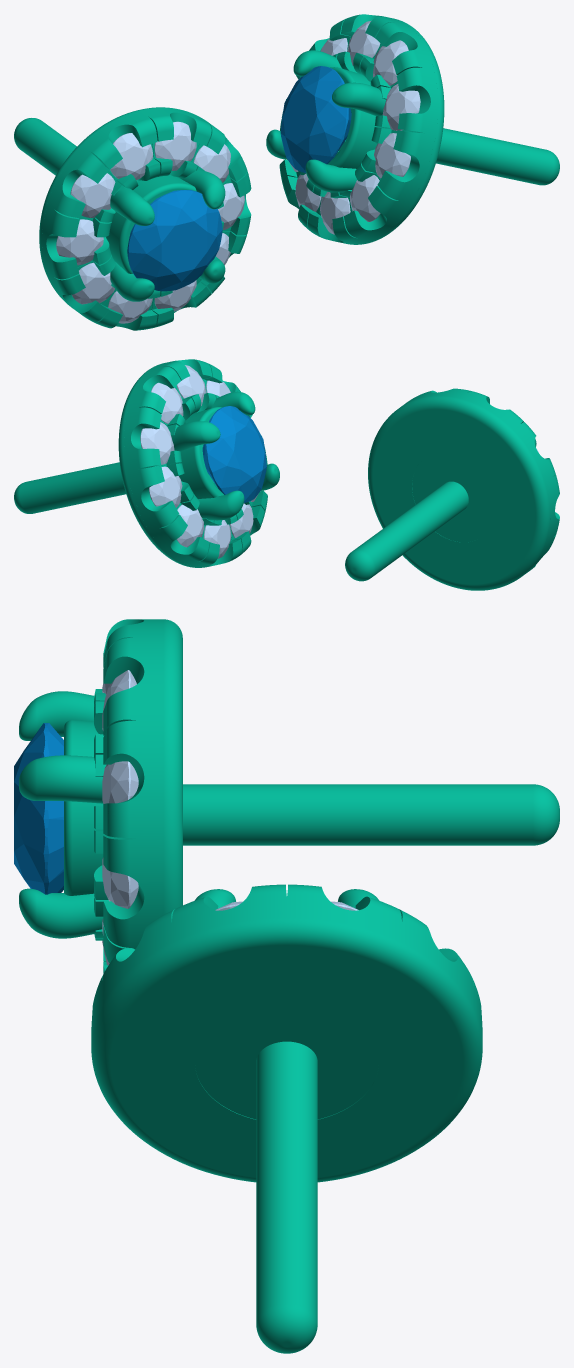
3 renders of one model, top to bottom at view 1: azimuth 30°, elevation 25°; view 2: azimuth 150°, elevation 25°; view 3: azimuth 270°, elevation 25°, orthographic. The views are drawn at different scales.
Parts seen in each view (by area): view 1: VEAR722.3dm, Diamond_Round (×18), Head Prong (×8), Bezel (×2); view 2: VEAR722.3dm, Diamond_Round (×8), Head Prong (×4), Bezel; view 3: VEAR722.3dm, Head Prong (×3), Diamond_Round (×3), Bezel.
Part boxes in pixels (box(x1,y1,x2,y2)): VEAR722.3dm: box(14, 14, 559, 330); Diamond_Round (×18): box(56, 21, 420, 323); Head Prong (×8): box(110, 50, 385, 301); Bezel (×2): box(106, 67, 377, 273); VEAR722.3dm: box(14, 359, 559, 590); Diamond_Round (×8): box(140, 365, 266, 558); Head Prong (×4): box(171, 391, 279, 520); Bezel: box(179, 407, 223, 498); VEAR722.3dm: box(91, 619, 559, 1353); Head Prong (×3): box(19, 691, 103, 938); Diamond_Round (×3): box(14, 723, 138, 908); Bezel: box(64, 720, 103, 895).
Bounding box in the file's own units: 3.4 × 1.23 × 1.71.
